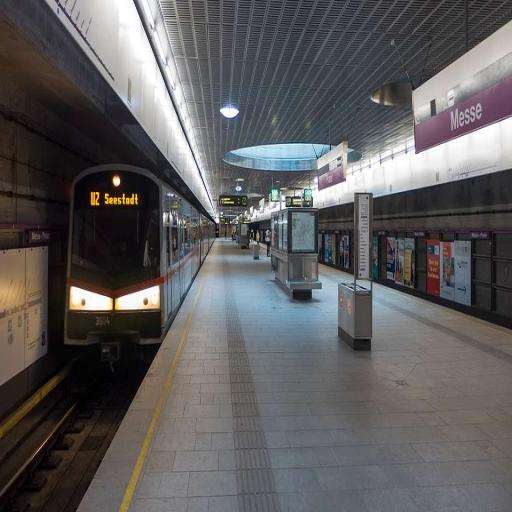V-Wagen: (63, 156, 215, 349)
